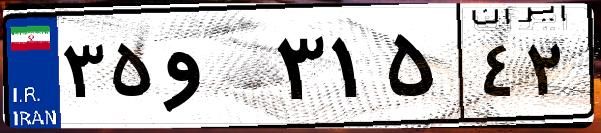1: (330, 28, 385, 110)
2: (525, 38, 570, 115)
3: (270, 28, 330, 110), (57, 26, 110, 100)
4: (475, 38, 525, 113)
5: (385, 28, 445, 110), (110, 28, 158, 98)
و: (158, 20, 270, 120)
